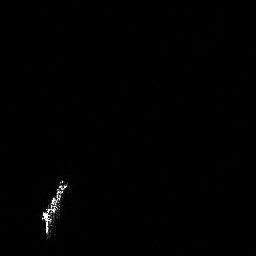ship: (38, 174, 71, 241)
